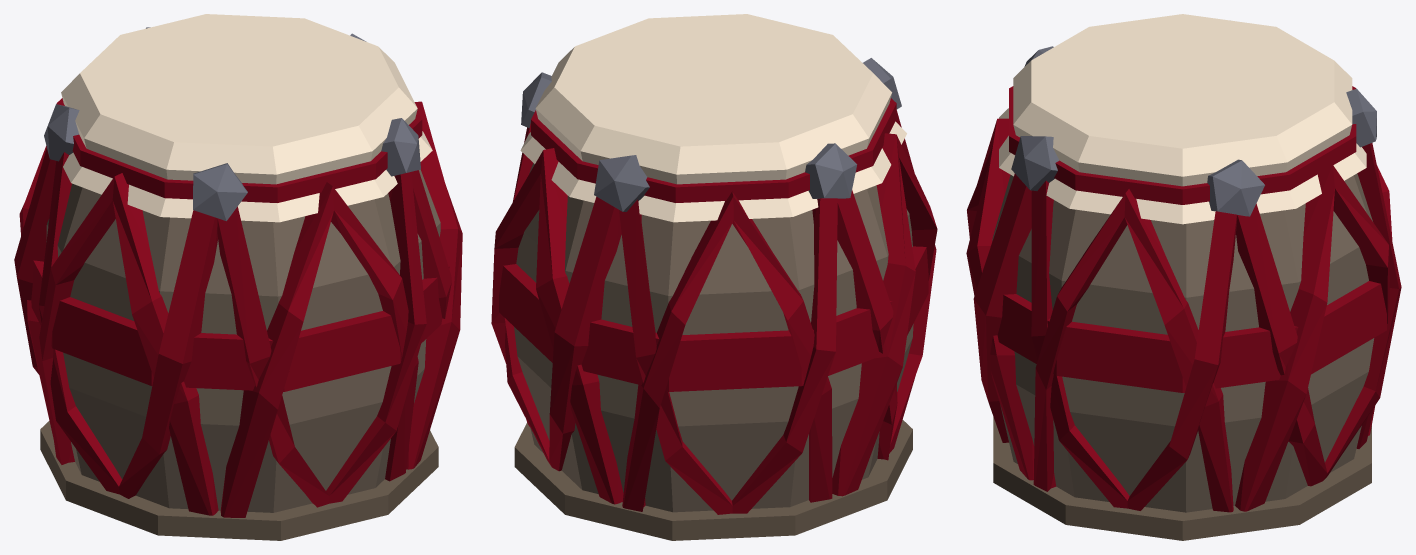
Rendered from _drum_2.fbx.
The picture shows the model from 3 angles, left to right: view 1: azimuth 30°, elevation 25°; view 2: azimuth 150°, elevation 25°; view 3: azimuth 270°, elevation 25°; orthographic projection.
Parts seen in each view (by area): view 1: drum_2; view 2: drum_2; view 3: drum_2.
Part boxes in pixels (x1,y1,x2,y2): drum_2: (14,14,462,540); drum_2: (491,14,937,540); drum_2: (966,14,1401,540).
Size of the model in its own units: 85.86 by 79.92 by 83.93.
